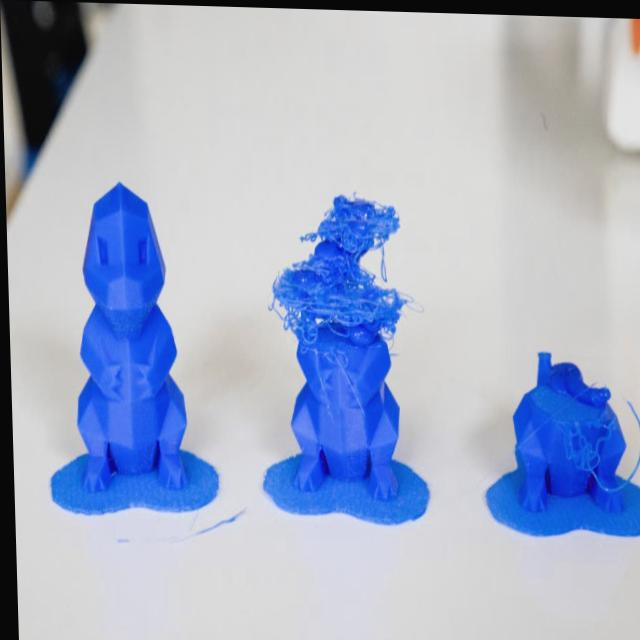spaghetti: (246, 157, 430, 399), (555, 402, 640, 503)
